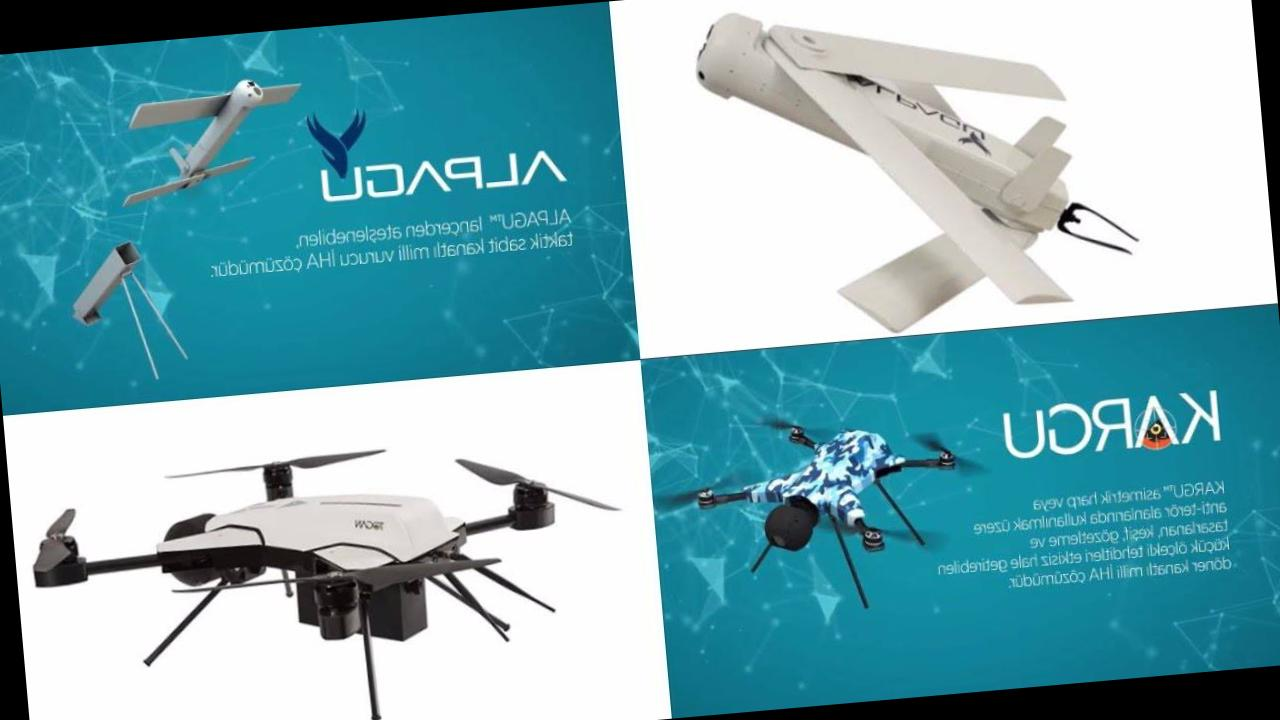drone: (6, 402, 638, 712), (650, 390, 1001, 624)
